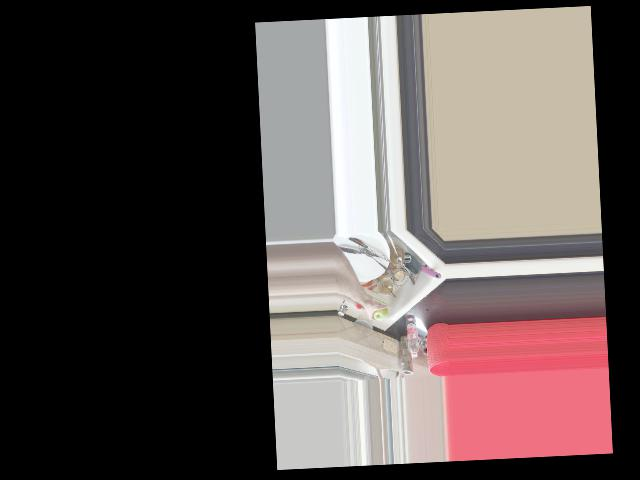apple: (372, 304, 387, 322)
